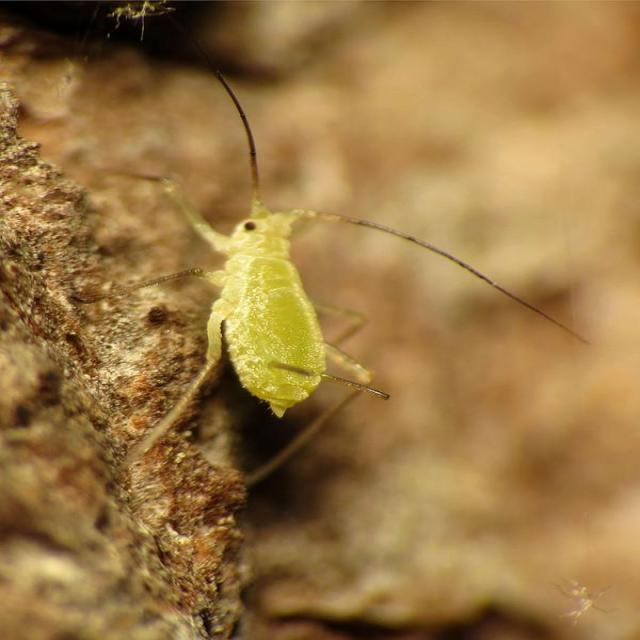aphid: (108, 135, 390, 479)
